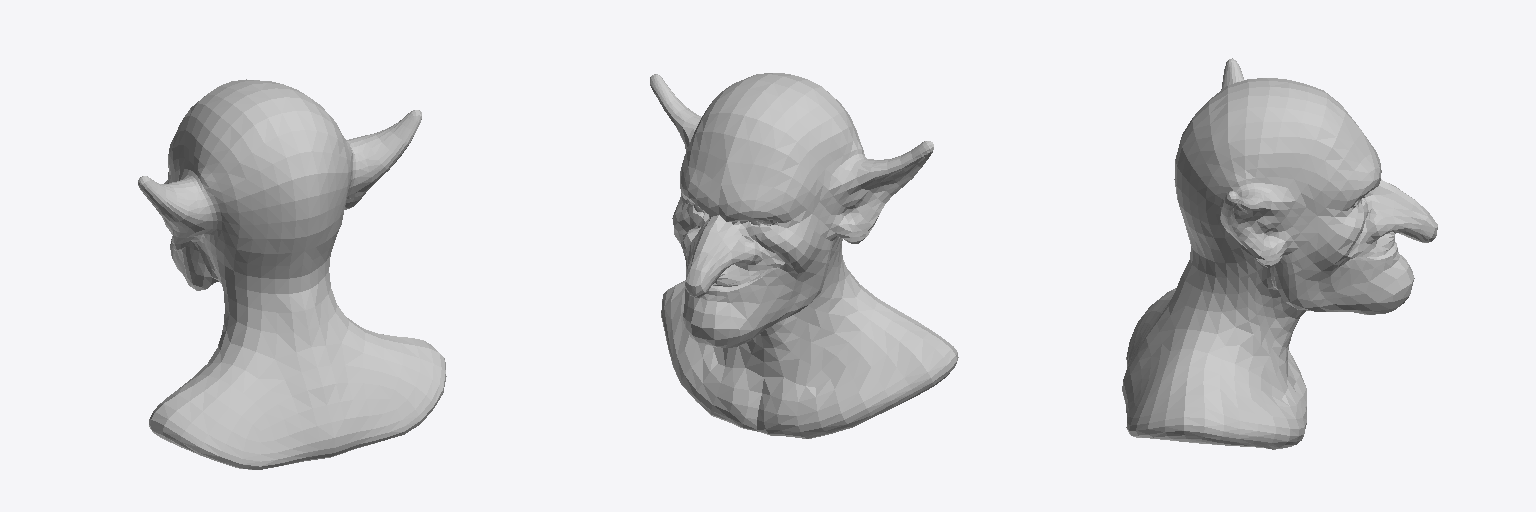
The model's file is goblin.obj.
The picture shows the model from 3 angles: view 1: azimuth 30°, elevation 25°; view 2: azimuth 150°, elevation 25°; view 3: azimuth 270°, elevation 25°; orthographic projection.
Visible parts, largest first — view 1: Object_7; view 2: Object_7; view 3: Object_7.
Part boxes in pixels (x1,y1,x2,y2): Object_7: (138,79,446,469); Object_7: (650,73,958,438); Object_7: (1122,58,1437,449).
Size of the model in its own units: 22.34 by 25.15 by 21.27.